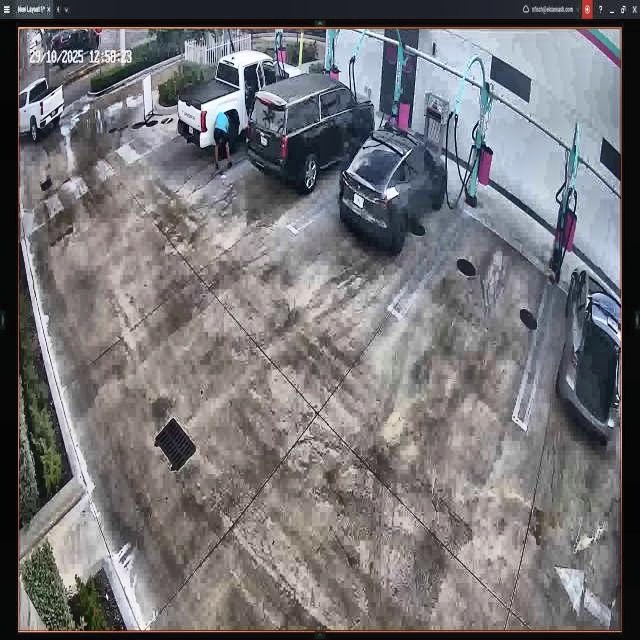Car: (342, 127, 448, 250), (250, 83, 374, 186), (178, 52, 304, 148)
